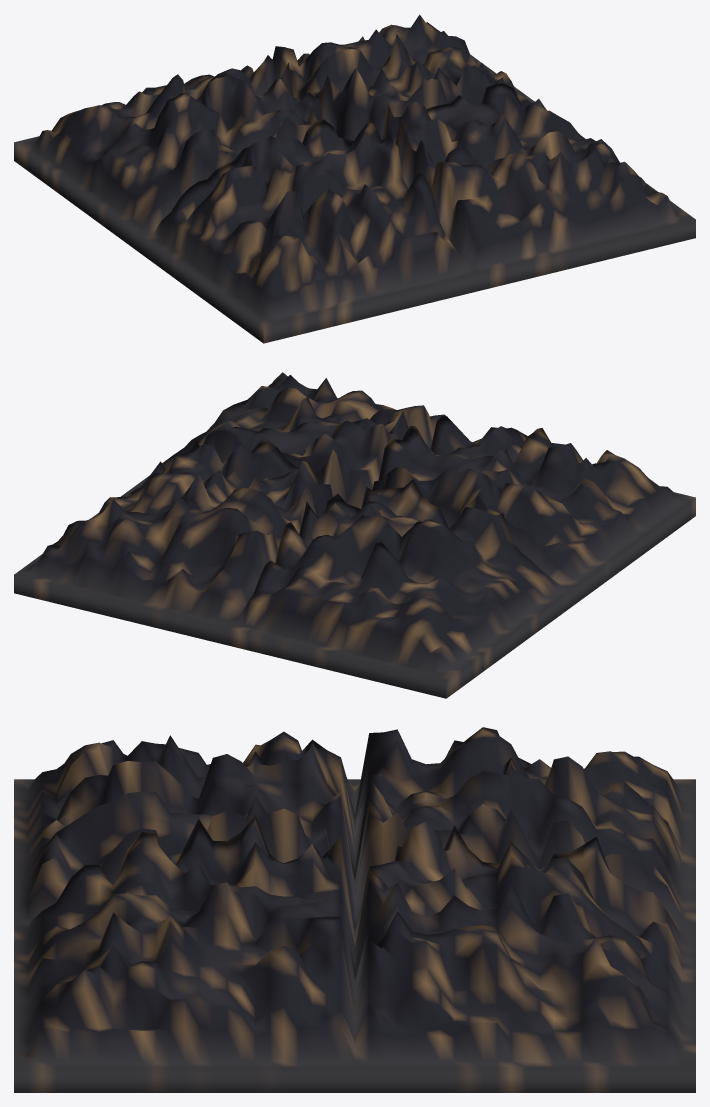
Rendered from far.glb.
3 views of the same model, one above another, from view 1: azimuth 30°, elevation 25°; view 2: azimuth 150°, elevation 25°; view 3: azimuth 270°, elevation 25° (orthographic). The views are drawn at different scales.
Parts seen in each view (by area): view 1: far-proxy; view 2: far-proxy; view 3: far-proxy.
Part boxes in pixels (x1,y1,x2,y2): far-proxy: [14, 14, 695, 343]; far-proxy: [14, 372, 695, 698]; far-proxy: [14, 727, 695, 1092].
Size of the model in its own units: 500 by 117 by 500.
